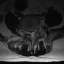CCS_normal: (31, 29, 33, 38)
LFS_normal: (35, 25, 38, 33)
LLS_normal: (33, 28, 35, 37)
RFS_normal: (26, 29, 29, 36)
RLS_normal: (29, 29, 31, 37)
